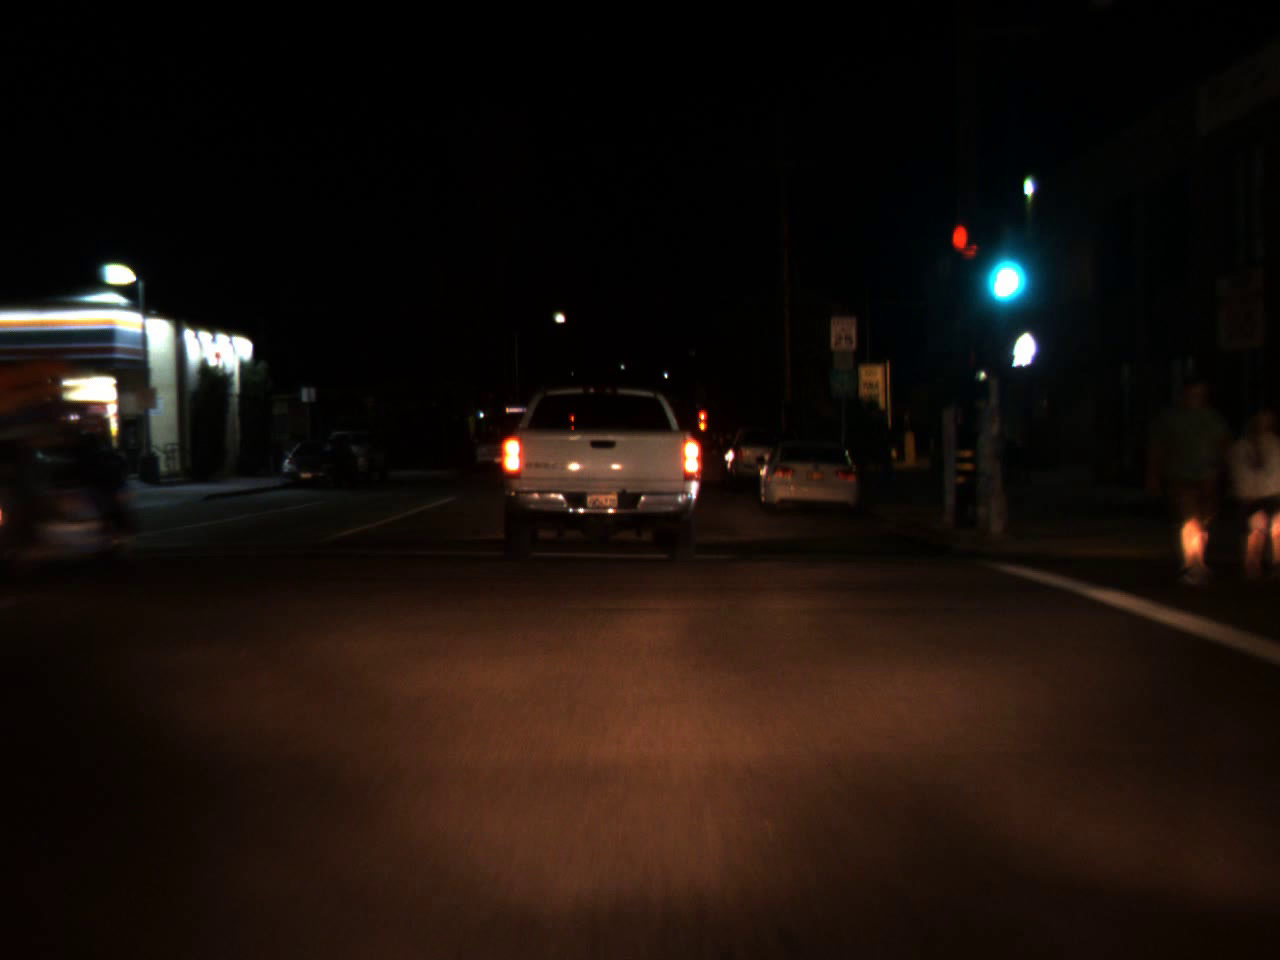go: (983, 226, 1024, 310)
stop: (698, 409, 707, 430)
